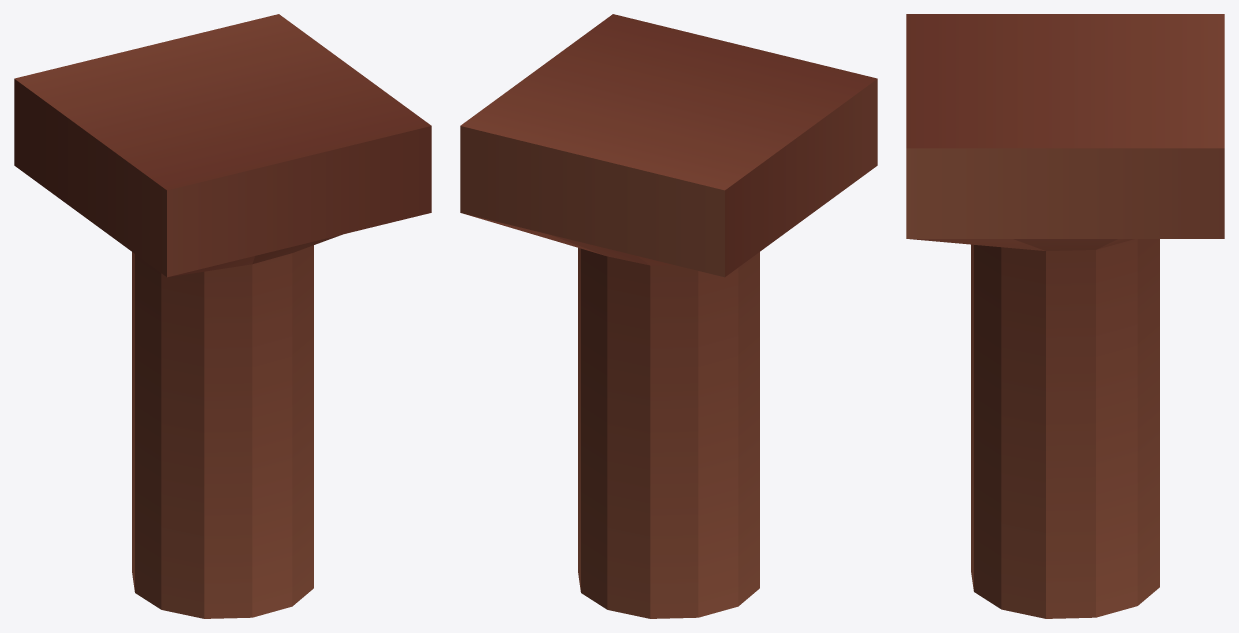
Rendered from Wooden_Platform_Top_2.glb.
3 renders of one model, left to right at view 1: azimuth 30°, elevation 25°; view 2: azimuth 150°, elevation 25°; view 3: azimuth 270°, elevation 25°, orthographic. The views are drawn at different scales.
Parts seen in each view (by area): view 1: Wooden_Platform_Top-col; view 2: Wooden_Platform_Top-col; view 3: Wooden_Platform_Top-col.
Part boxes in pixels (x1,y1,x2,y2): Wooden_Platform_Top-col: (14,14,431,618); Wooden_Platform_Top-col: (460,14,877,618); Wooden_Platform_Top-col: (906,14,1224,618).
Bounding box in the file's own units: 3 × 5.18 × 3.
1 material, 1 textured.
